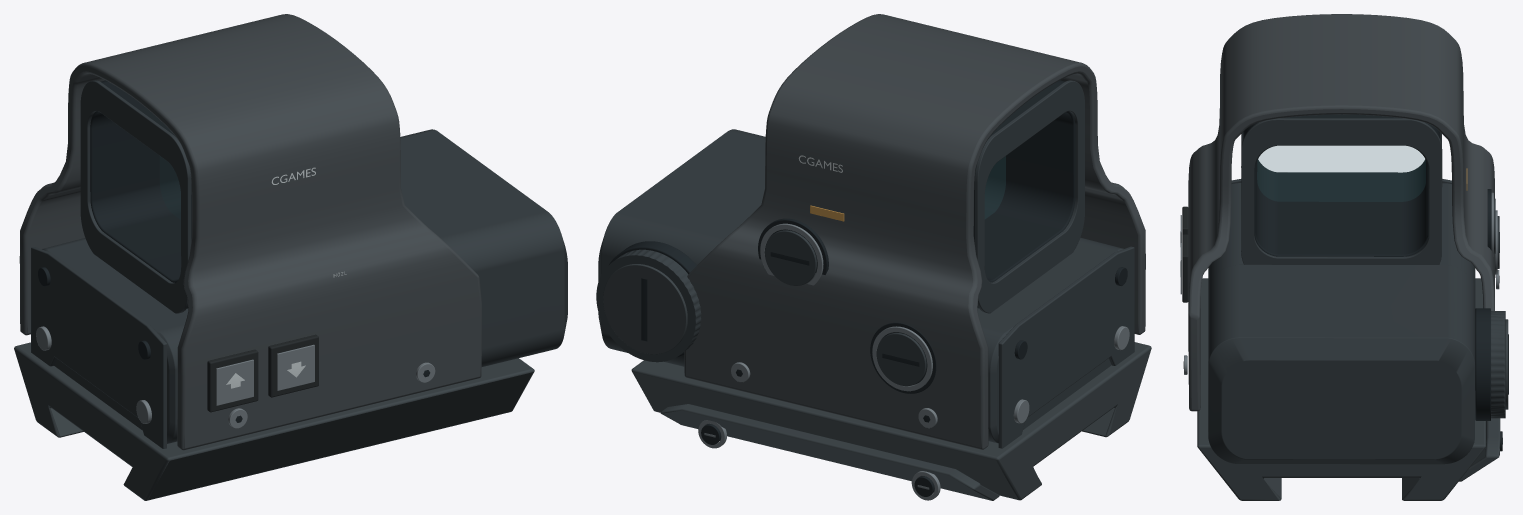
The model's file is H02L_Holo_Long_Legacy_K1_Rail_Top.glb.
The picture shows the model from 3 angles, left to right: view 1: azimuth 30°, elevation 25°; view 2: azimuth 150°, elevation 25°; view 3: azimuth 270°, elevation 25°; orthographic projection. The views are drawn at different scales.
Visible parts, largest first — view 1: 01 open protective U hood, 02 rounded forward casing, 04 undercut adapter bridge, 02 rear visible face plate, 03 inner window structural frame, 03 window rim rear, 05 left button gasket.001, 05 left button face.001, 05 left button face, 05 left button gasket, 03 transparent visual pane; view 2: 01 open protective U hood, 04 undercut adapter bridge, 02 rounded forward casing, 02 rear visible face plate, 03 inner window structural frame, 03 window rim rear, 04 independent right side strip, 05 front cap center, 05 front cap fine grip, 05 right inset disk, 05 right inset disk.001, 05 right satin disk edge.001 (+5 smaller); view 3: 02 rounded forward casing, 01 open protective U hood, 03 inner window structural frame, 03 window rim front, 03 transparent visual pane, 04 undercut adapter bridge, 05 front side cap seat, 05 front cap fine grip, 04 independent right side strip, 05 left button gasket.
Part boxes in pixels (x1,y1,x2,y2): 01 open protective U hood: (19, 14, 481, 450); 02 rounded forward casing: (42, 129, 567, 443); 04 undercut adapter bridge: (14, 342, 534, 500); 02 rear visible face plate: (31, 247, 166, 448); 03 inner window structural frame: (90, 80, 191, 308); 03 window rim rear: (80, 80, 191, 313); 05 left button gasket.001: (207, 349, 258, 412); 05 left button face.001: (216, 359, 253, 405); 05 left button face: (277, 344, 314, 390); 05 left button gasket: (268, 334, 318, 397); 03 transparent visual pane: (160, 156, 180, 219); 01 open protective U hood: (684, 14, 1145, 449); 04 undercut adapter bridge: (631, 342, 1151, 500); 02 rounded forward casing: (598, 129, 1123, 443); 02 rear visible face plate: (998, 246, 1134, 448); 03 inner window structural frame: (973, 80, 1075, 308); 03 window rim rear: (974, 80, 1084, 313); 04 independent right side strip: (660, 404, 999, 500); 05 front cap center: (603, 264, 687, 354); 05 front cap fine grip: (596, 249, 701, 362); 05 right inset disk: (764, 230, 816, 285); 05 right inset disk.001: (876, 333, 926, 386); 05 right satin disk edge.001: (872, 326, 932, 391); 02 rounded forward casing: (1208, 183, 1475, 464); 01 open protective U hood: (1188, 14, 1494, 411); 03 inner window structural frame: (1243, 114, 1440, 256); 03 window rim front: (1241, 118, 1442, 264); 03 transparent visual pane: (1257, 146, 1425, 201); 04 undercut adapter bridge: (1197, 278, 1485, 500); 05 front side cap seat: (1475, 308, 1490, 420); 05 front cap fine grip: (1491, 311, 1505, 418); 04 independent right side strip: (1459, 418, 1500, 481); 05 left button gasket: (1182, 234, 1188, 302).
Size of the model in its own units: 0.0983 by 0.0825 by 0.0724.
